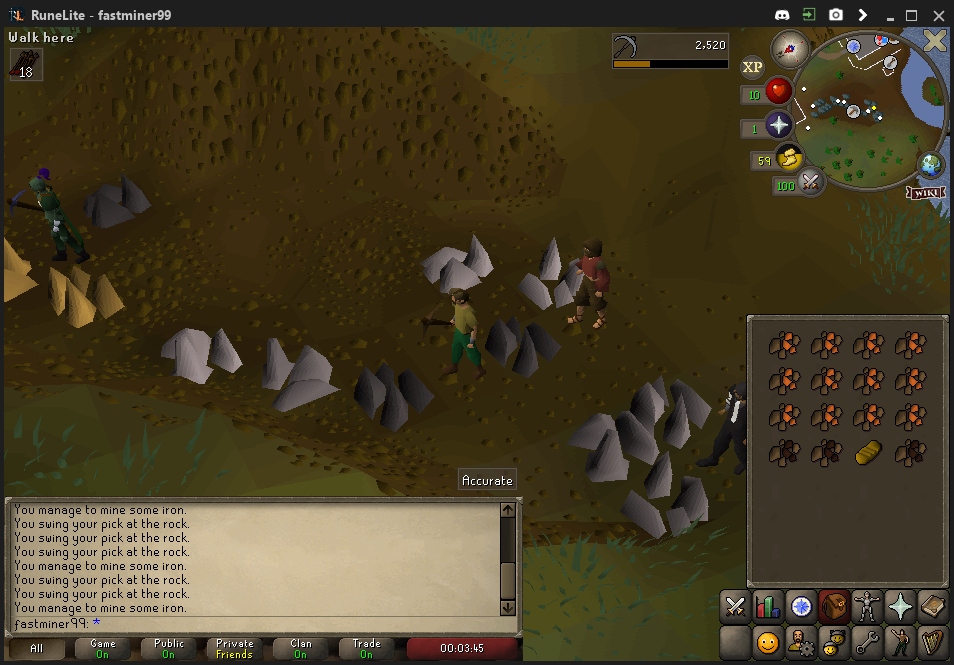depleted: (351, 361, 436, 429), (485, 315, 566, 374)
